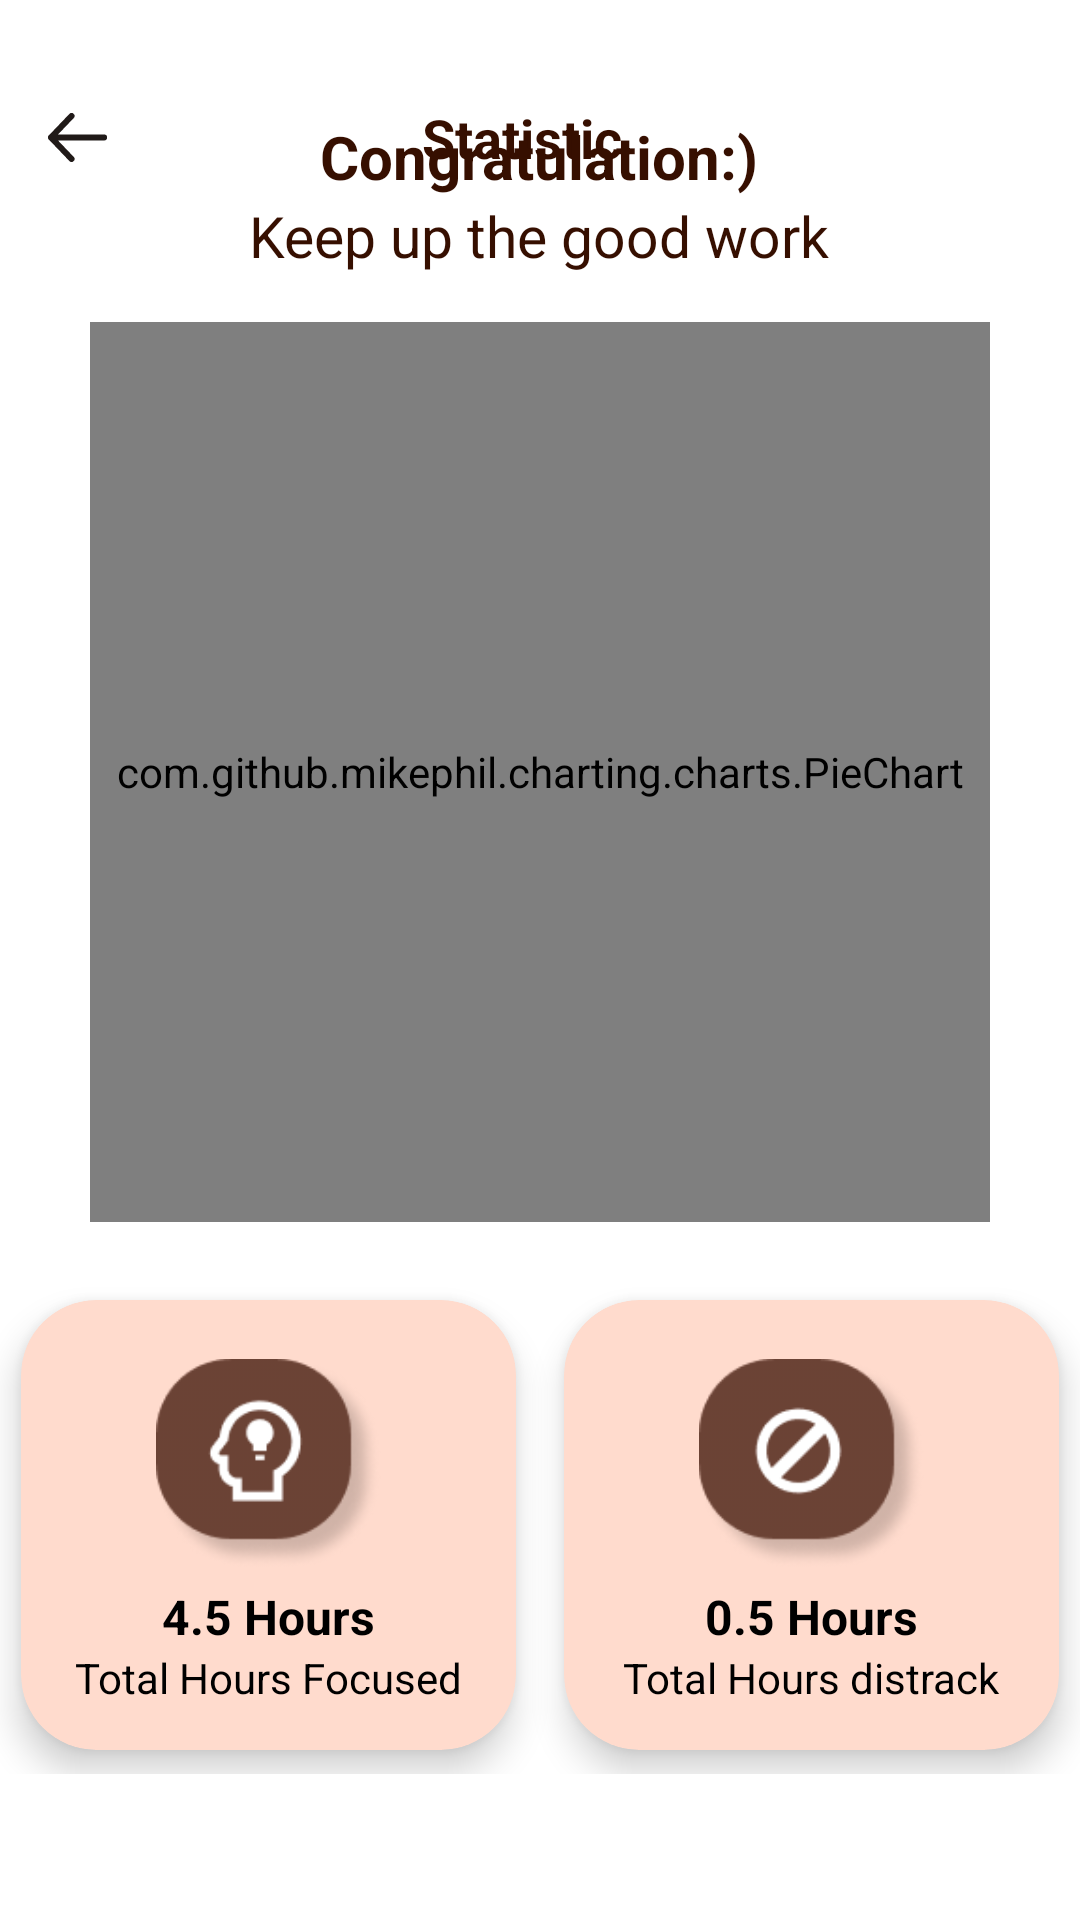

Icon bounding boxes for this 1080*1920 phone screenshot, format (x1=x1, y1=y1, x2=x2, y2=y2):
bek: (x1=48, y1=113, x2=107, y2=162)
distrak: (x1=699, y1=1359, x2=909, y2=1554)
head: (x1=156, y1=1359, x2=366, y2=1554)
